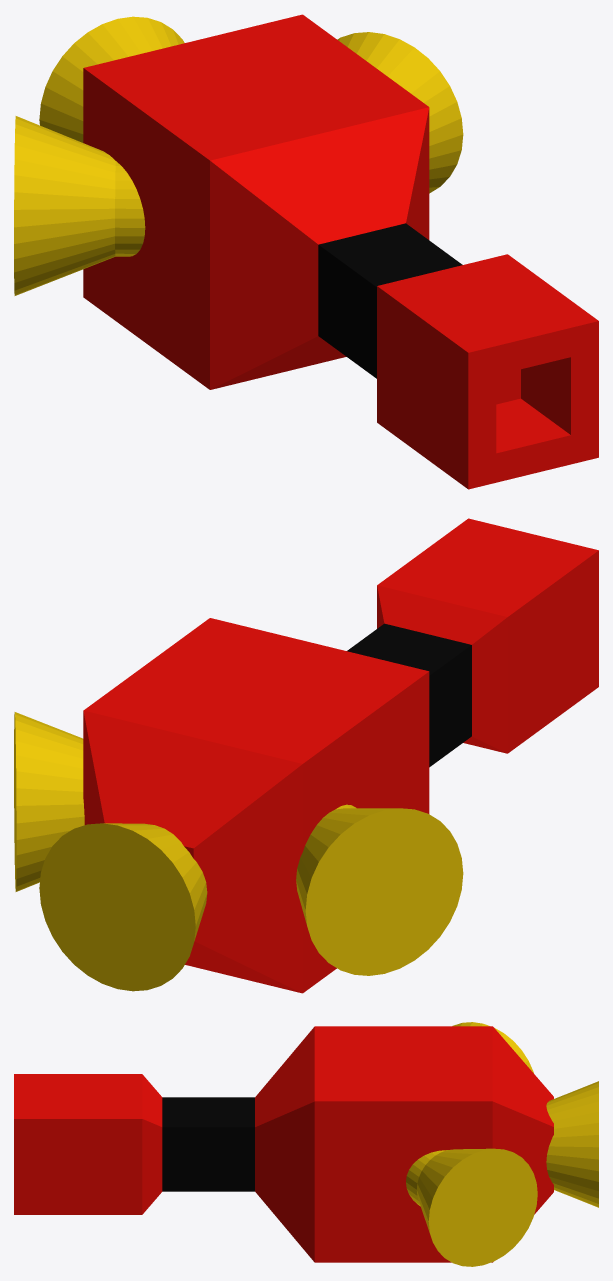
The model's file is FlameShip.fbx.
3 renders of one model, top to bottom at view 1: azimuth 30°, elevation 25°; view 2: azimuth 150°, elevation 25°; view 3: azimuth 270°, elevation 25°, orthographic. The views are drawn at different scales.
Parts seen in each view (by area): view 1: Cube, Cylinder.001, Cylinder; view 2: Cube, Cylinder.001, Cylinder; view 3: Cube, Cylinder.001, Cylinder.
Part boxes in pixels (x1,y1,x2,y2): Cube: (83,14,598,489); Cylinder.001: (14,32,463,295); Cylinder: (39,16,184,142); Cube: (83,518,598,993); Cylinder.001: (14,712,463,975); Cylinder: (39,823,207,991); Cube: (14,1026,553,1262); Cylinder.001: (406,1022,537,1266); Cylinder: (546,1081,598,1207).
Size of the model in its own units: 410 by 200 by 657.
